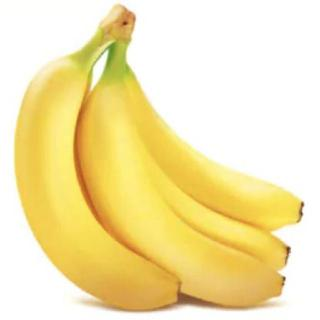banana: (75, 75, 288, 308), (12, 55, 182, 312), (112, 70, 306, 241)
